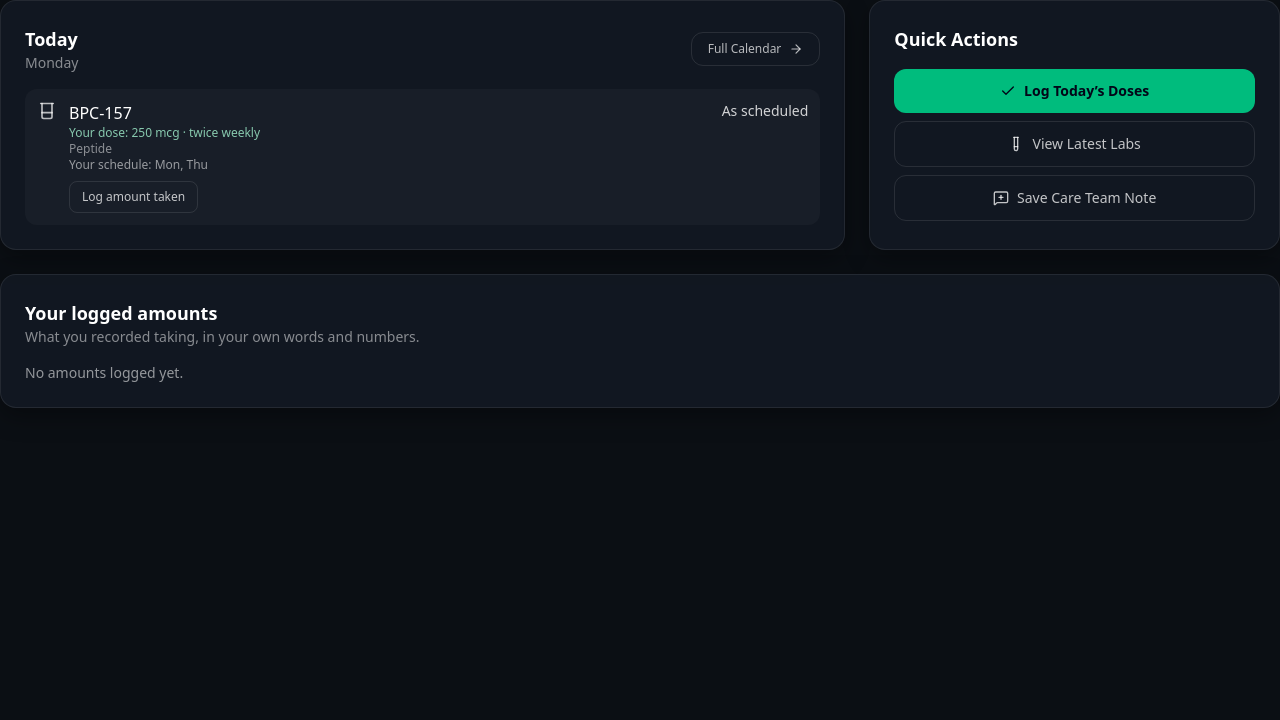
Scenario: schedule: logging the amount actually taken › refuses amount "" / unit "mcg" with a plain error and logs nothing
Step 1. Click the button "Log amount taken" → (134, 197), box [69,181,198,213]
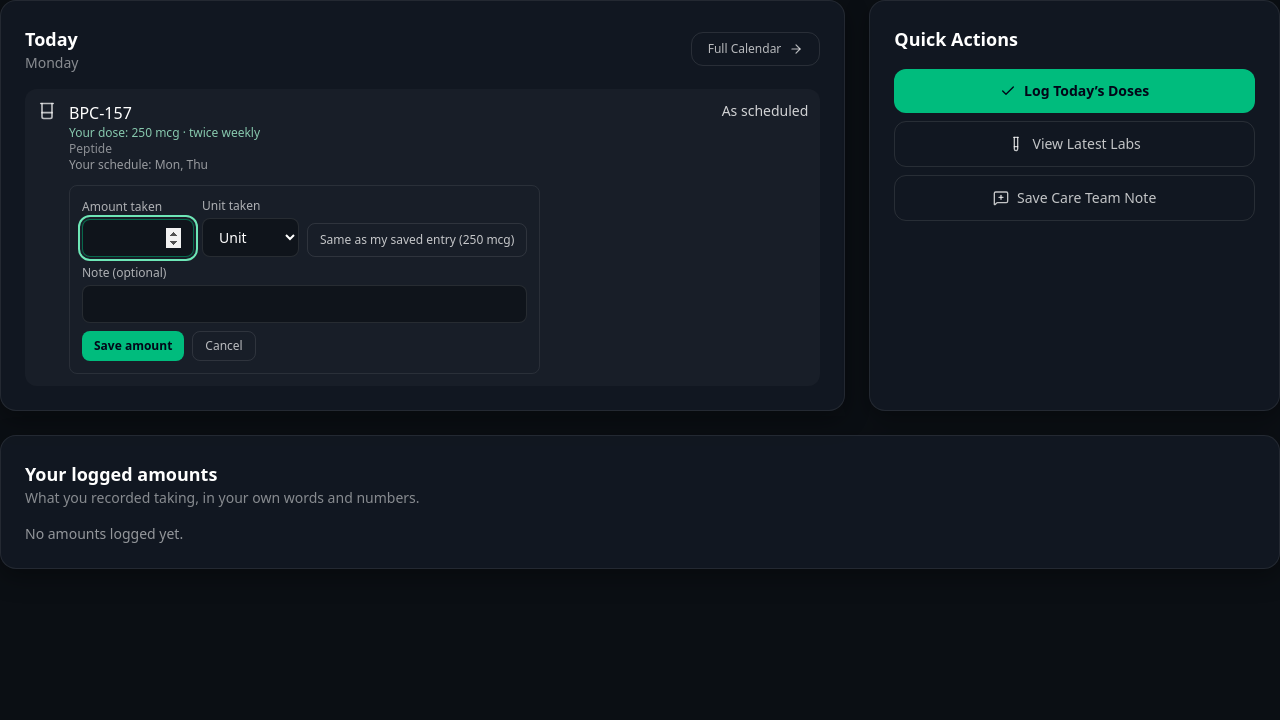
Step 2. Select "mcg" in the dropdown labelled "Unit taken" → (250, 238), box [202,218,299,257]
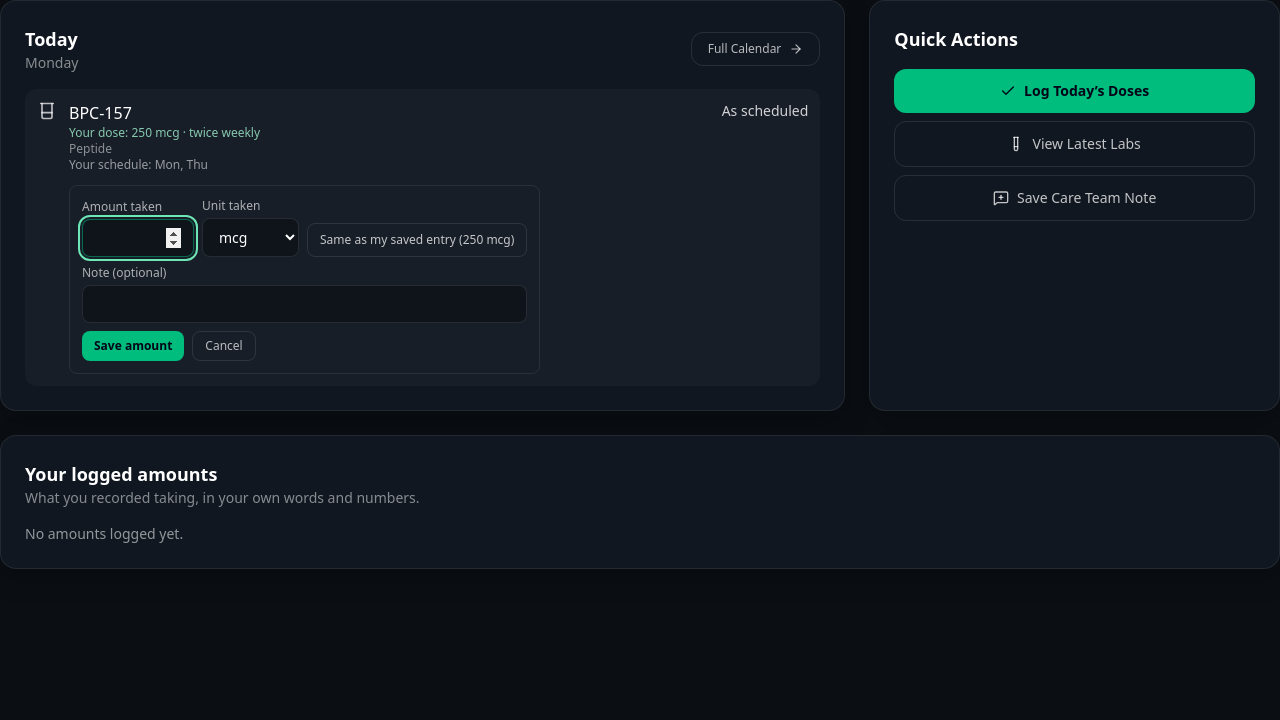
Step 3. Click the button "Save amount" → (133, 346), box [82,331,184,361]
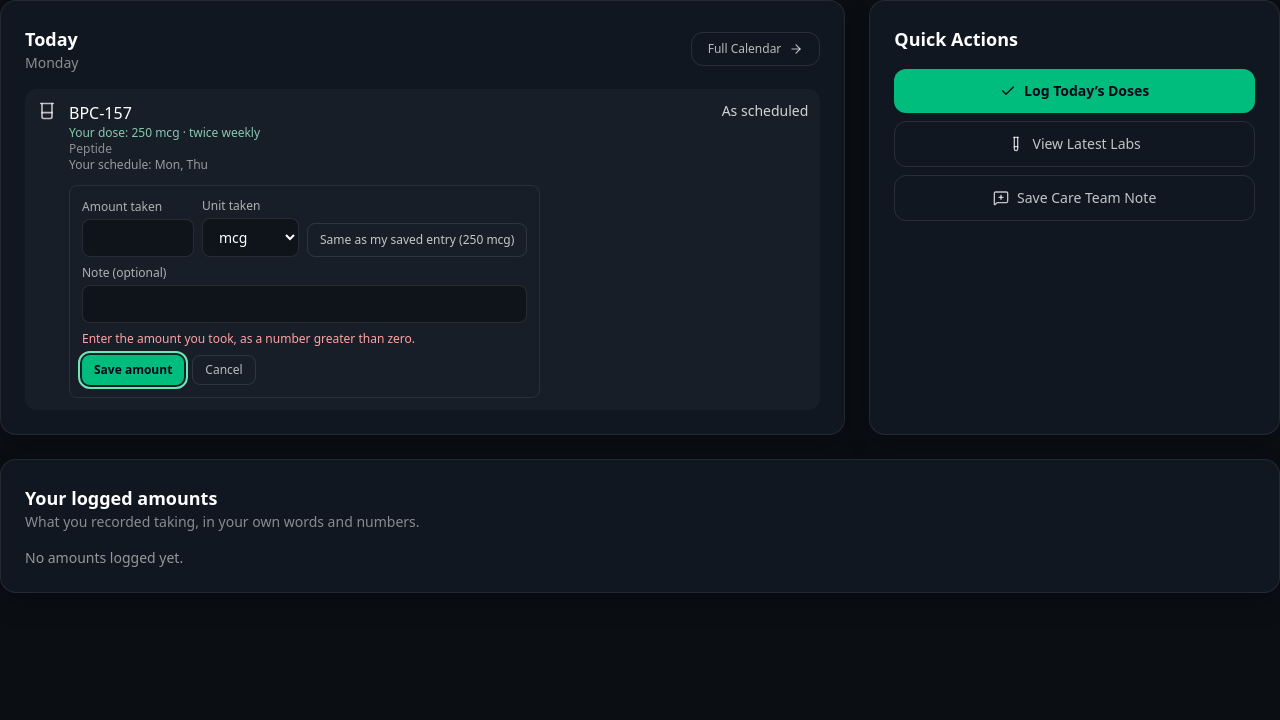
Now the text "Enter the amount you took, as a number greater than zero." is shown, box [82,330,415,347]
